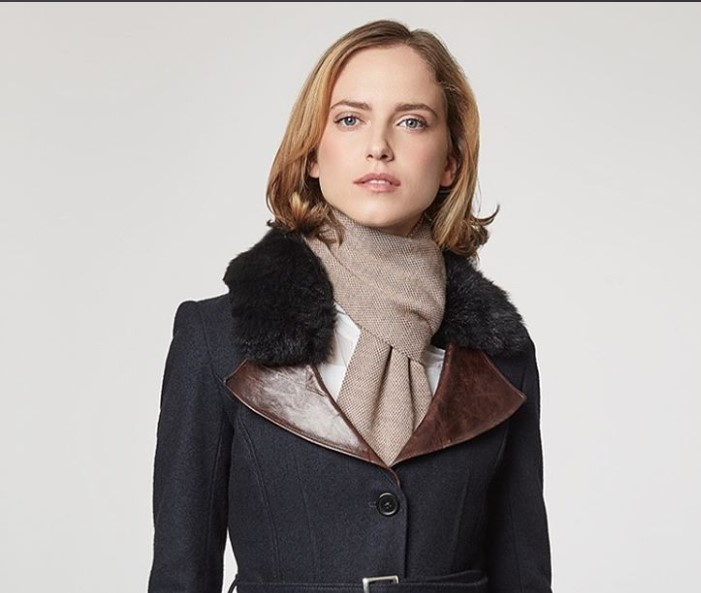face_no_mask: (302, 29, 465, 228)
